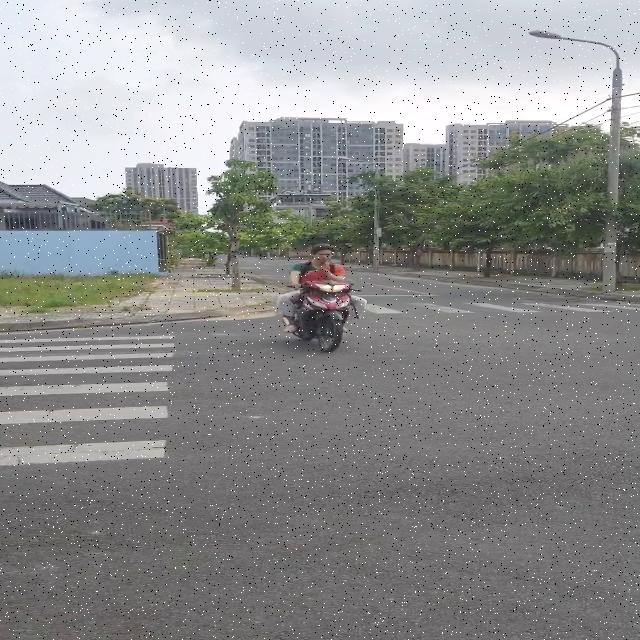no_helmet: (305, 243, 336, 266)
